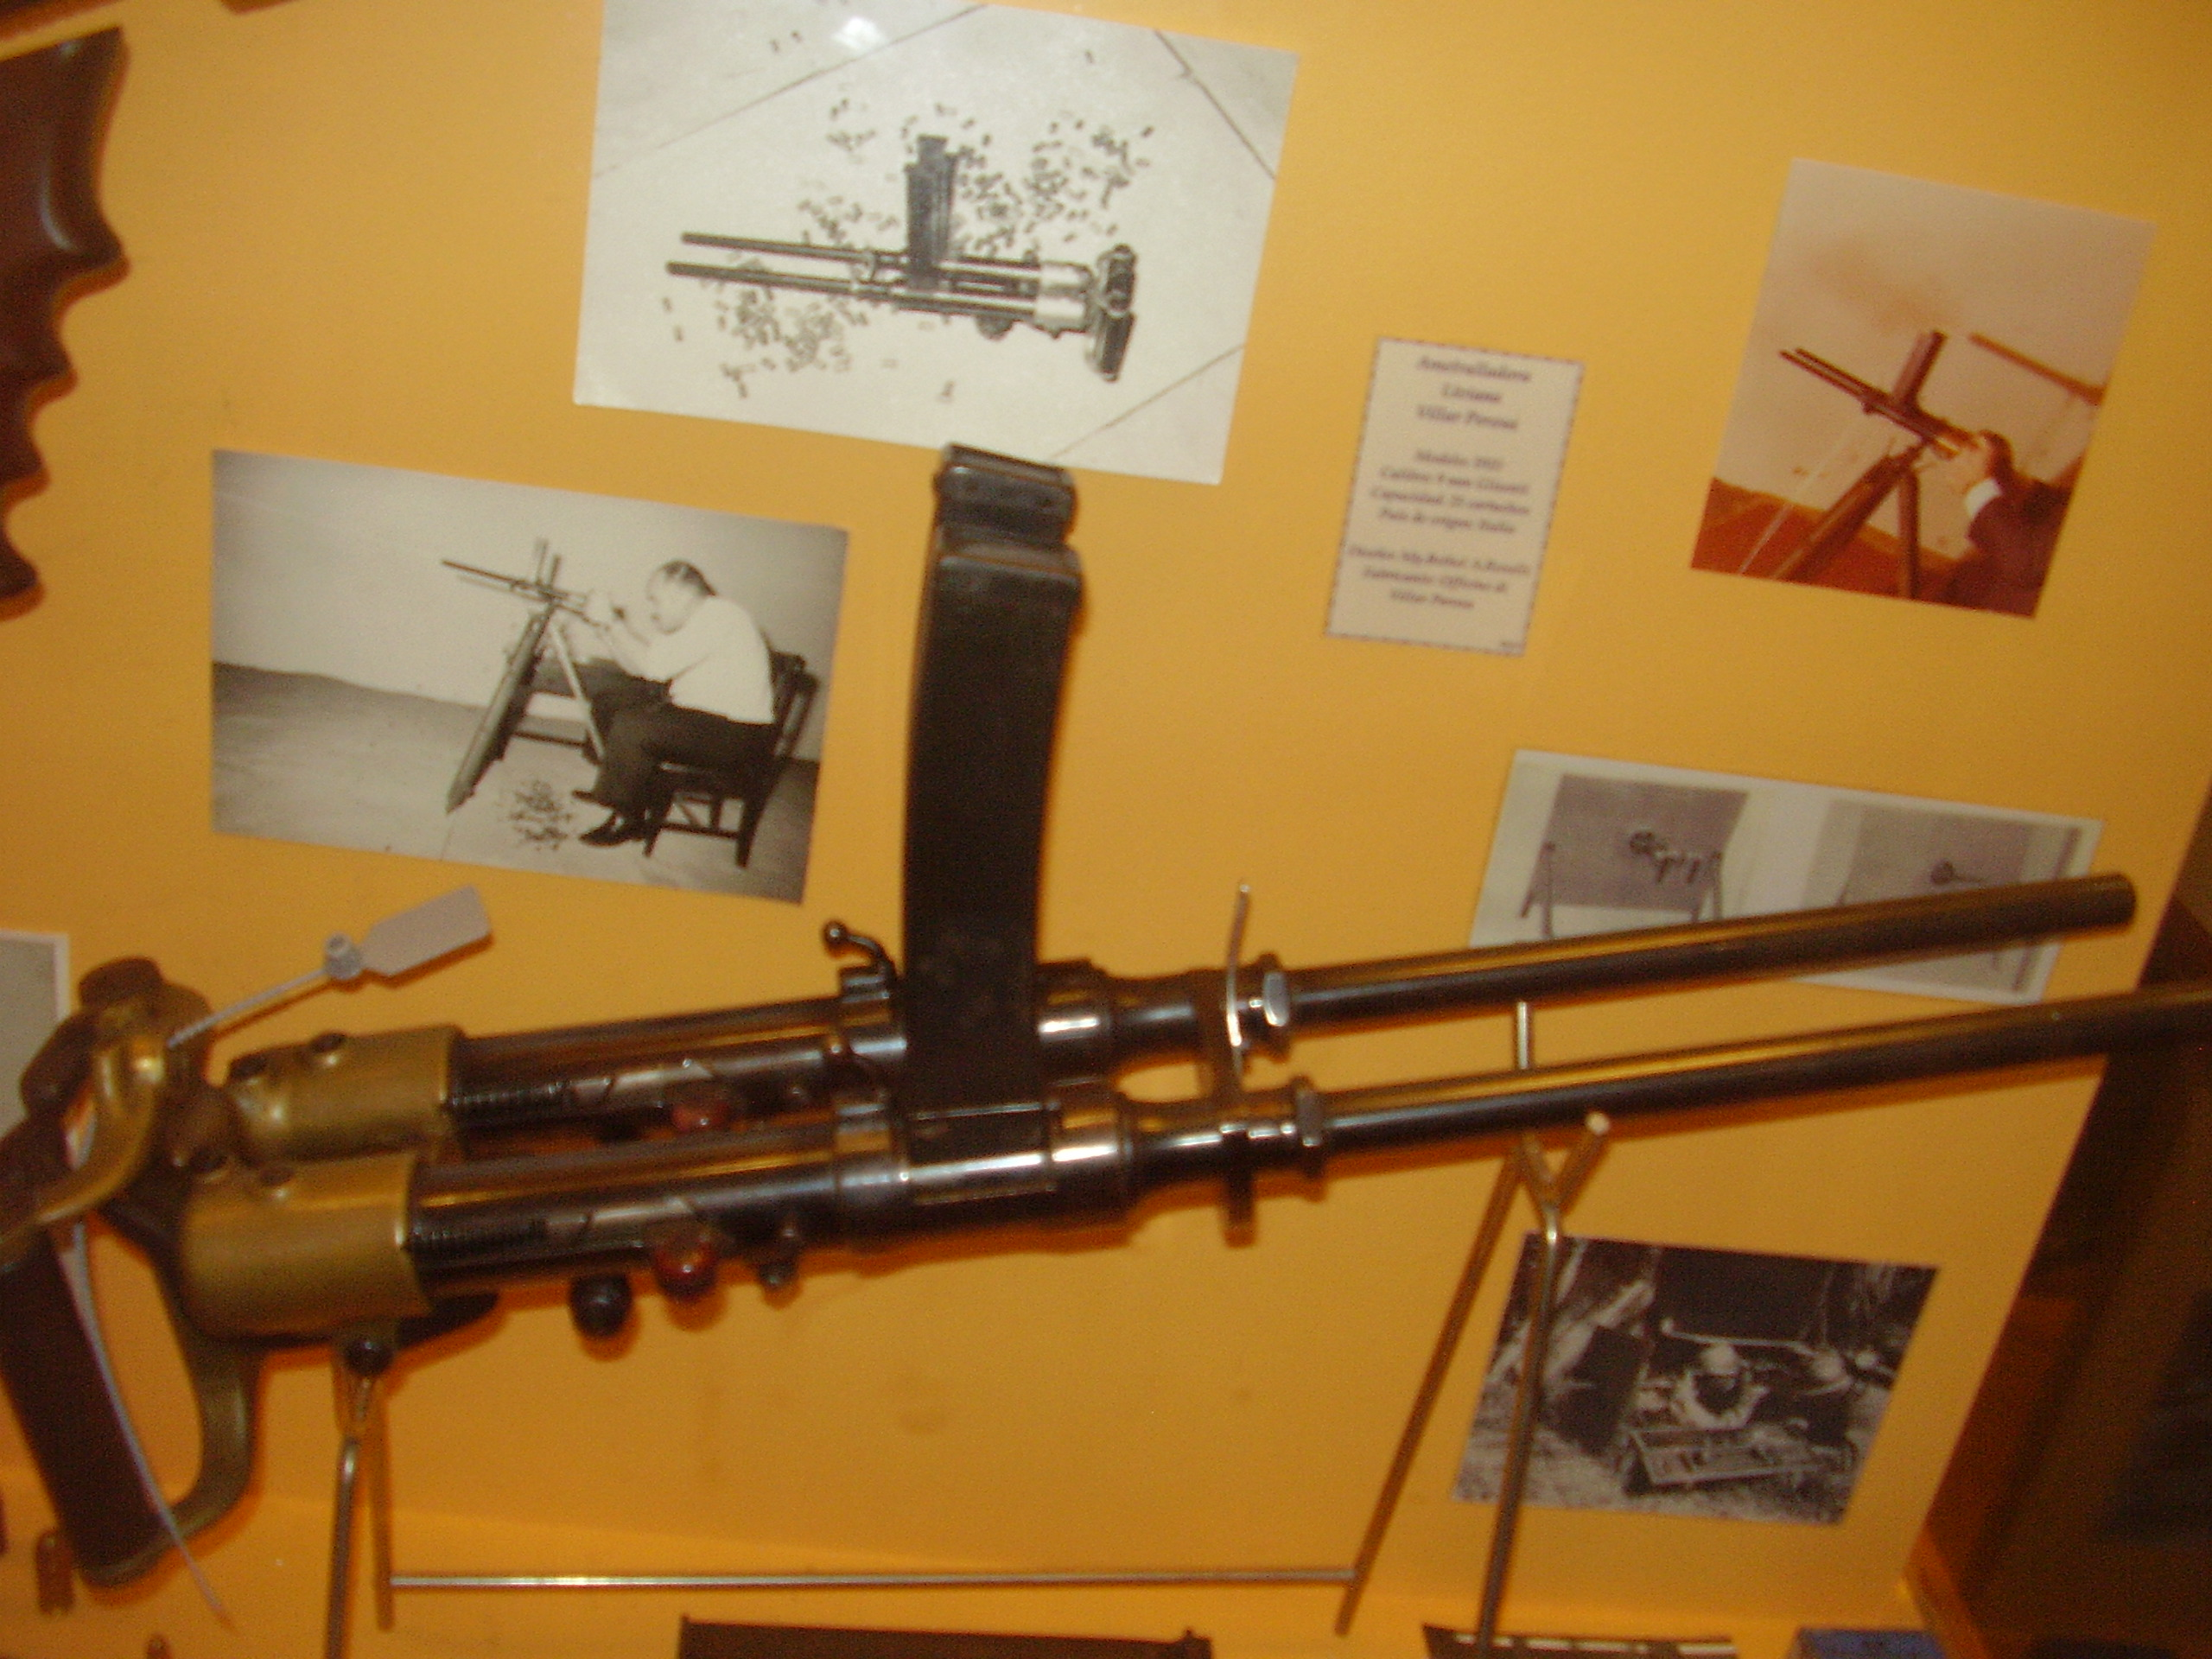rifle: (16, 831, 2123, 1568)
